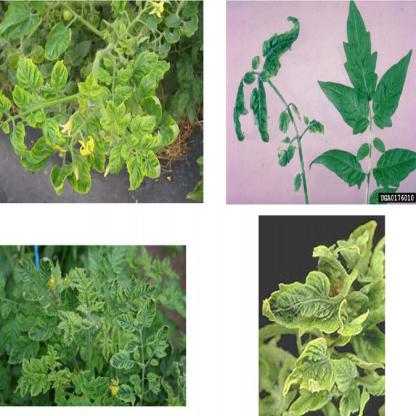Tomato leaf yellow virus: (258, 271, 356, 336), (277, 336, 372, 401), (17, 55, 45, 97), (68, 156, 95, 193), (149, 323, 174, 358), (139, 294, 165, 327), (141, 152, 169, 182), (134, 49, 161, 80), (42, 120, 66, 153), (51, 59, 73, 94), (10, 122, 26, 164), (129, 114, 157, 138), (17, 261, 41, 286), (108, 347, 134, 370), (108, 144, 126, 176), (116, 314, 144, 333), (115, 384, 137, 406), (136, 284, 160, 301), (123, 272, 139, 297), (12, 86, 32, 106), (31, 370, 46, 396), (46, 345, 59, 374), (89, 373, 109, 390), (115, 85, 134, 102), (110, 278, 121, 307), (63, 323, 75, 349), (105, 101, 121, 119), (102, 119, 118, 137), (20, 374, 31, 398), (21, 358, 34, 377), (80, 317, 96, 332), (76, 84, 91, 98), (91, 87, 108, 99), (59, 310, 72, 321), (84, 280, 95, 293)
